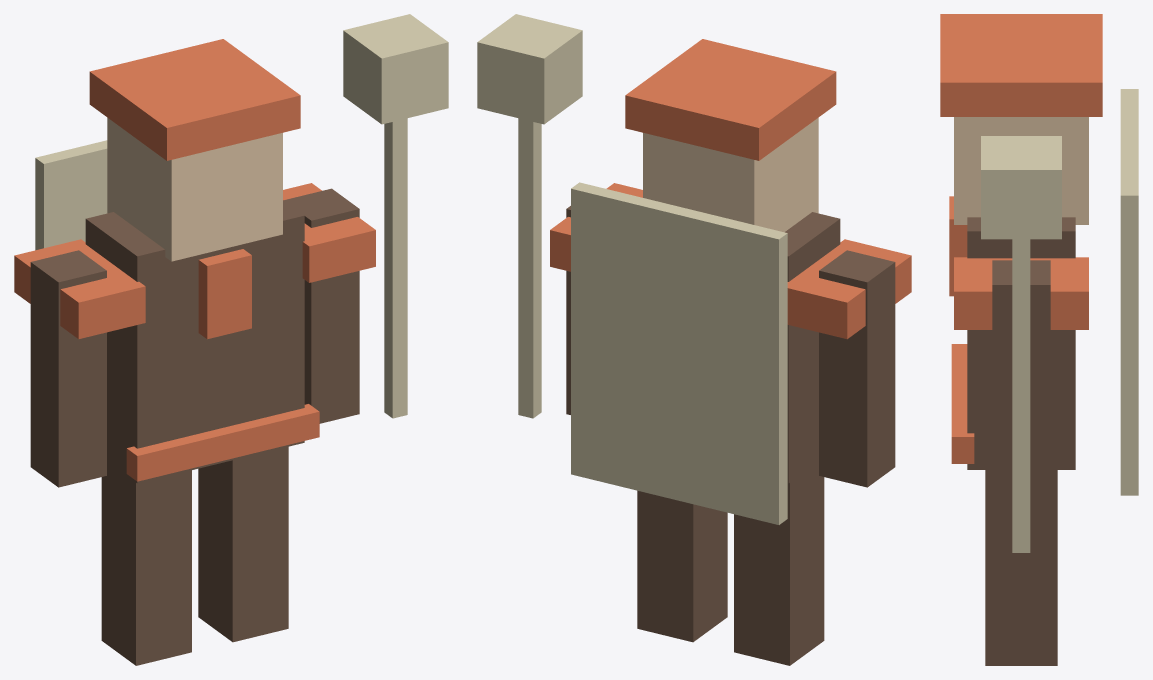
Rendered from 18_bryn_voxmere_courier_at_salvager.glb.
3 views of the same model, side by side, from view 1: azimuth 30°, elevation 25°; view 2: azimuth 150°, elevation 25°; view 3: azimuth 270°, elevation 25° (orthographic). The views are drawn at different scales.
Parts seen in each view (by area): view 1: Bryn Voxmere, Courier at Salvager; view 2: Bryn Voxmere, Courier at Salvager; view 3: Bryn Voxmere, Courier at Salvager.
Part boxes in pixels (box(x1,y1,x2,y2)): Bryn Voxmere, Courier at Salvager: box(14, 14, 448, 665); Bryn Voxmere, Courier at Salvager: box(477, 14, 911, 665); Bryn Voxmere, Courier at Salvager: box(940, 14, 1138, 665).
Bounding box in the file's own units: 1.05 × 1.44 × 0.4476.
